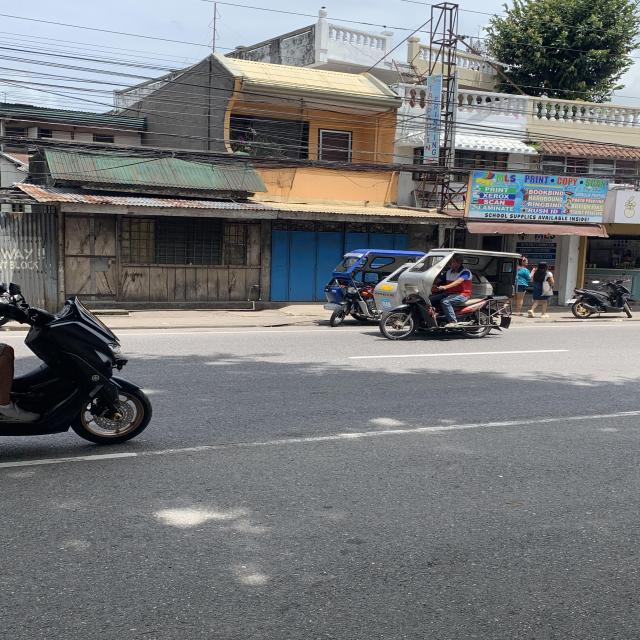motorcycle: (4, 276, 159, 468)
